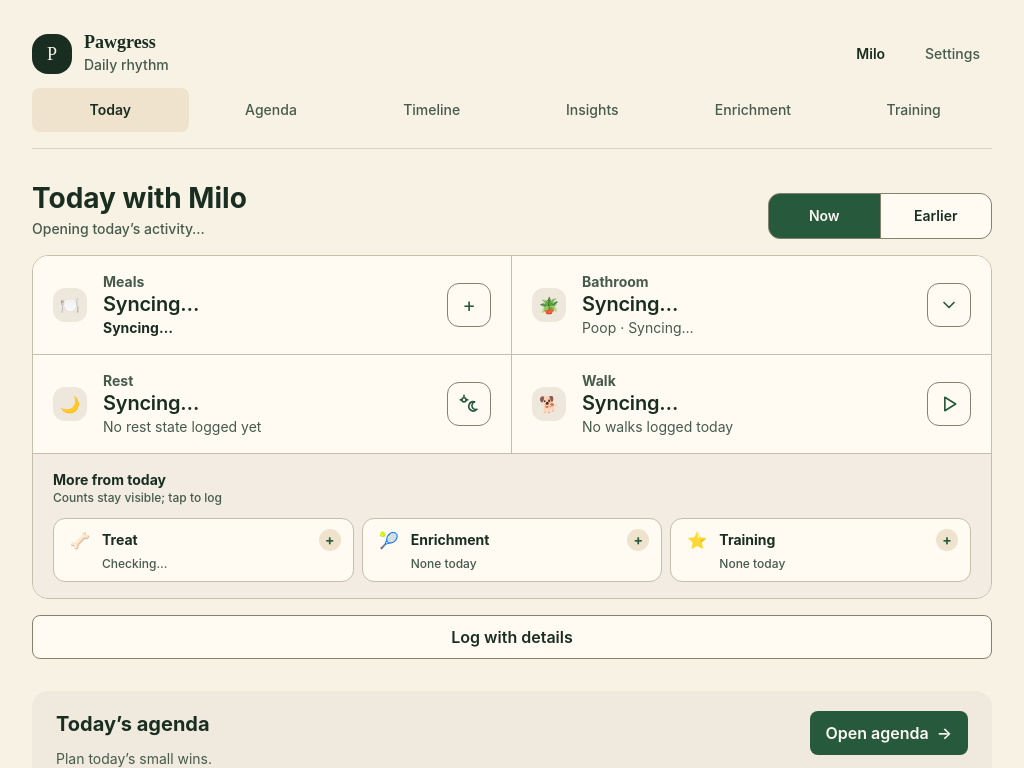
Test: DashboardPage quick logging › keeps the walk prompt open when atomic creation fails
Click the button named "Log bathroom": [949, 305] box [927,283,971,327]
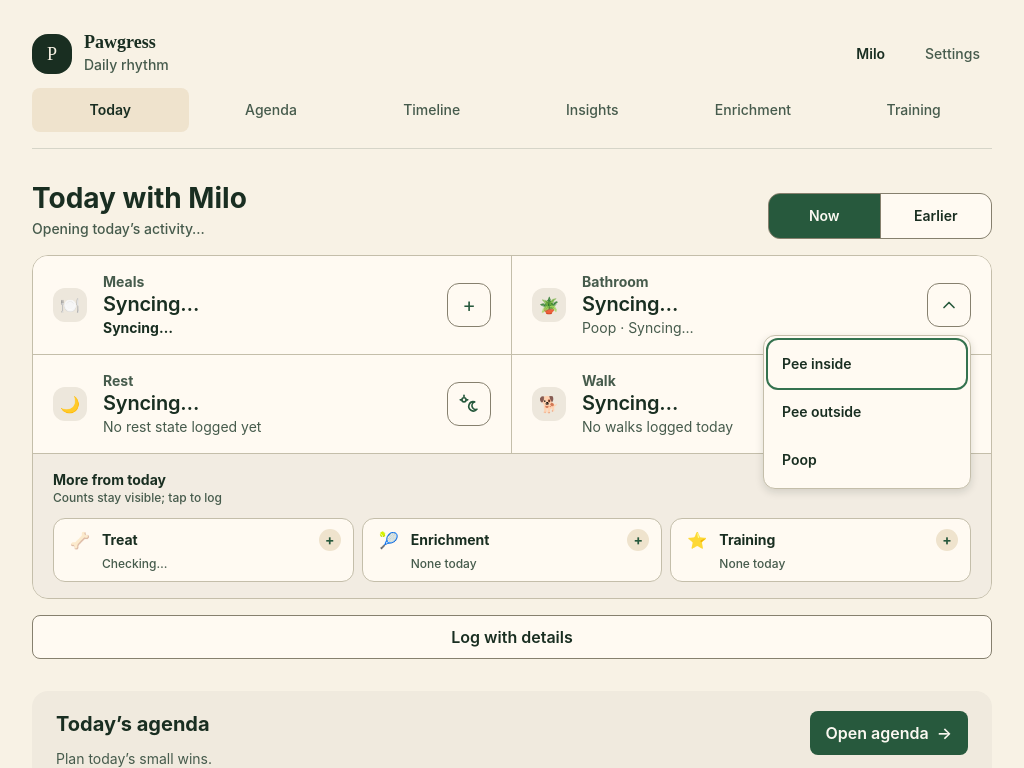
Click the button with aria-label "Log Poop": [867, 460] box [770,438,964,482]
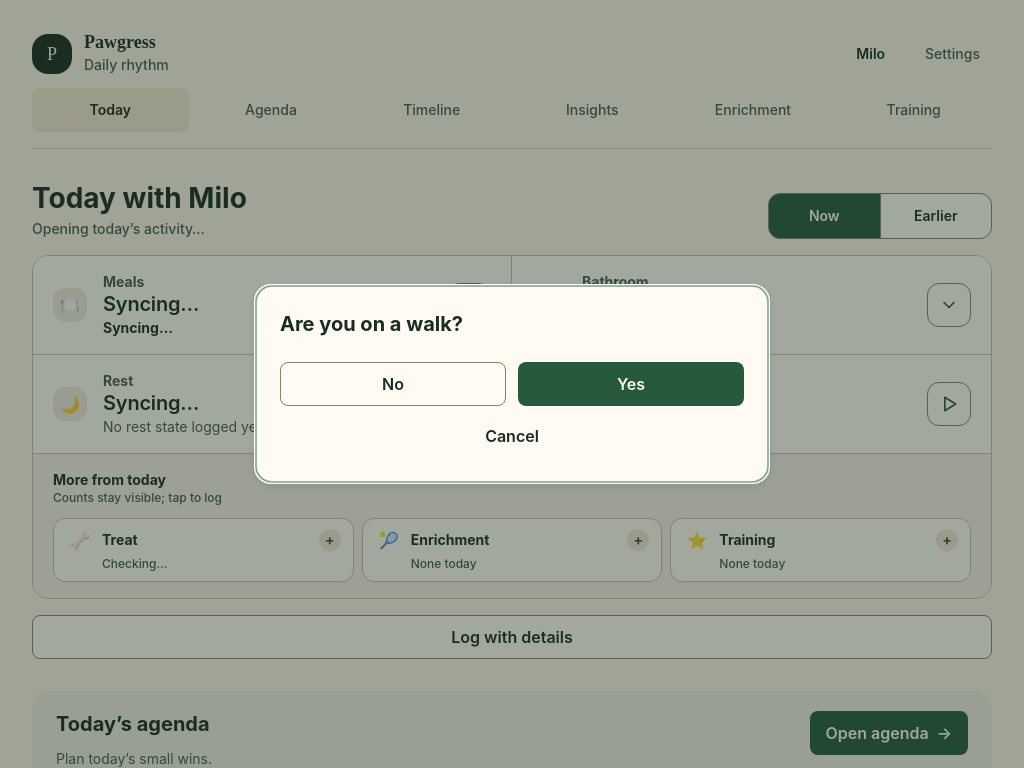
Click the button "Yes": [631, 384] box [518,362,744,406]
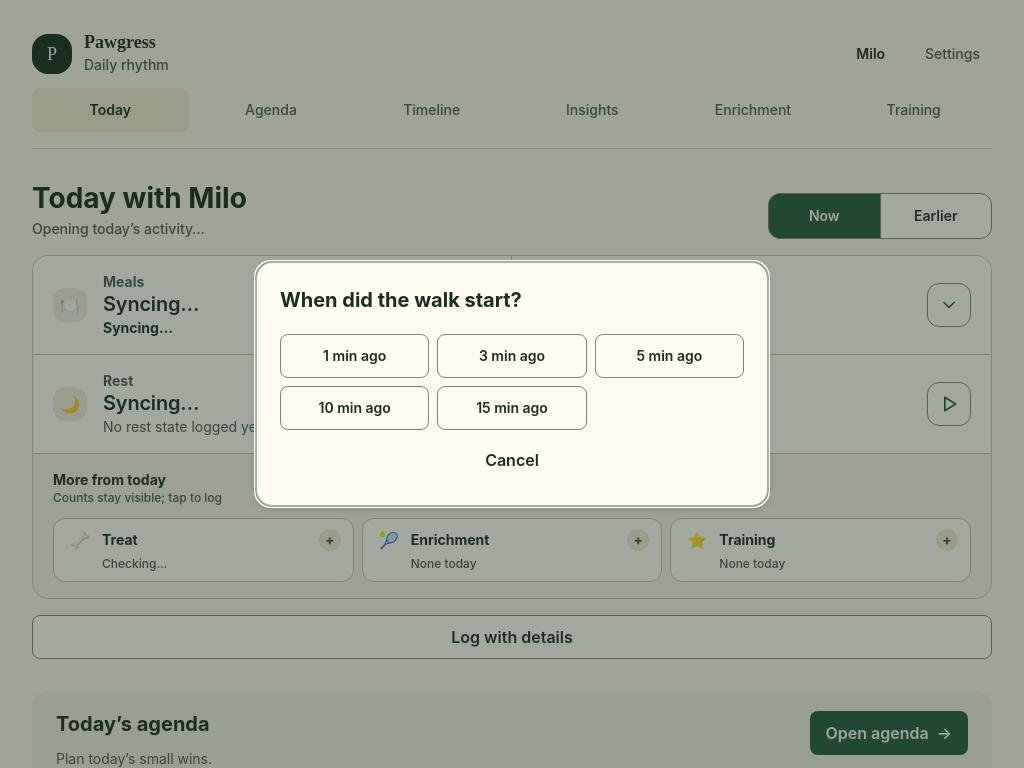
Click the button "15 min ago": [512, 408] box [437,386,587,430]
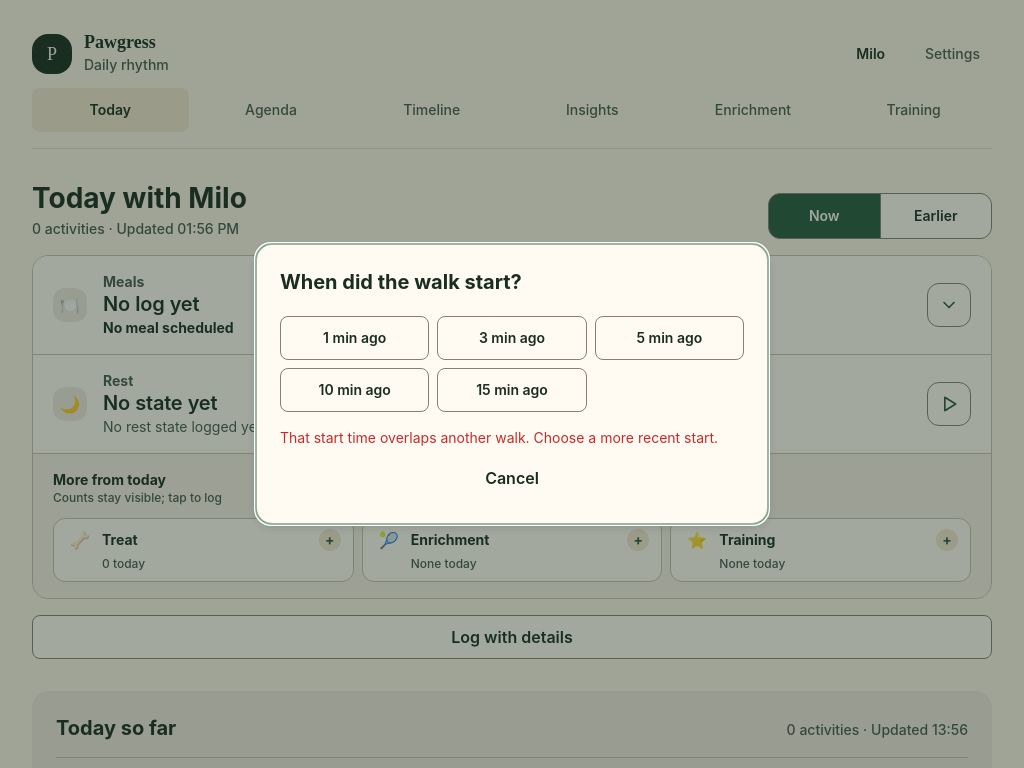
Expected: the button "15 min ago" is enabled, [437,368,587,412]
Expected: the message shows "That start time overlaps another walk.", [280,429,718,446]
